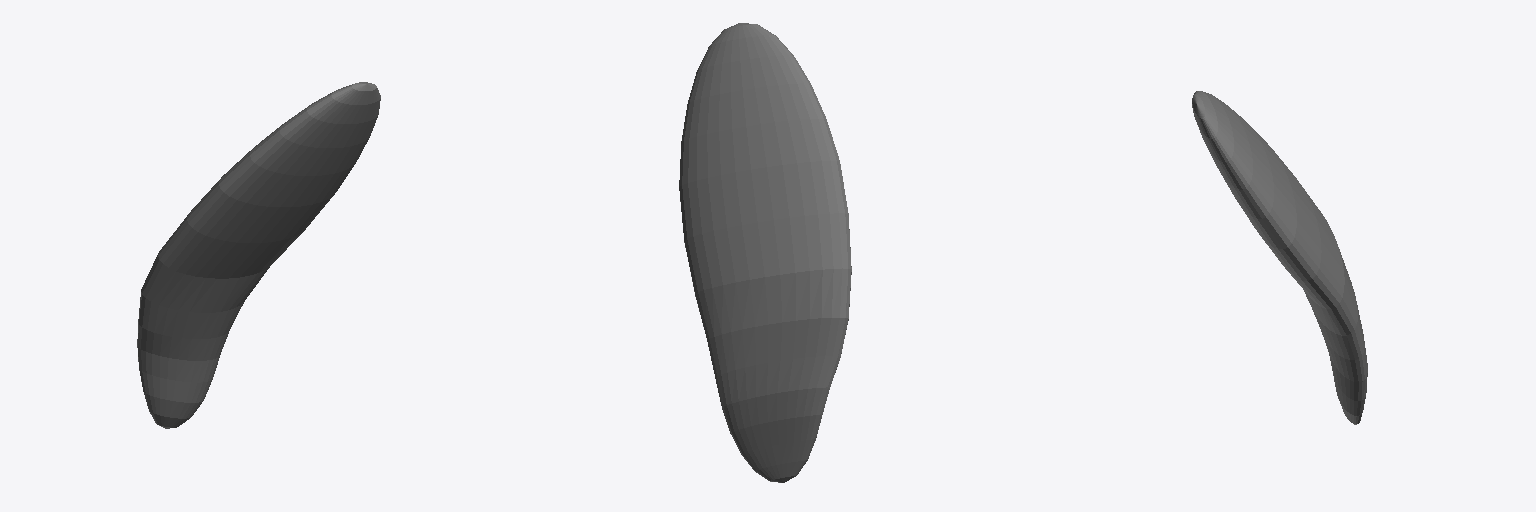
File: Cabo_Aleta_Izquierda.obj
The picture shows the model from 3 angles: view 1: azimuth 30°, elevation 25°; view 2: azimuth 150°, elevation 25°; view 3: azimuth 270°, elevation 25°; orthographic projection.
Parts seen in each view (by area): view 1: Cabo_Aleta_Izquierda; view 2: Cabo_Aleta_Izquierda; view 3: Cabo_Aleta_Izquierda.
Part boxes in pixels (x1,y1,x2,y2): Cabo_Aleta_Izquierda: (137,82,380,428); Cabo_Aleta_Izquierda: (679,23,851,482); Cabo_Aleta_Izquierda: (1192,91,1367,424).
Bounding box in the file's own units: 3.29 × 6.08 × 2.58.